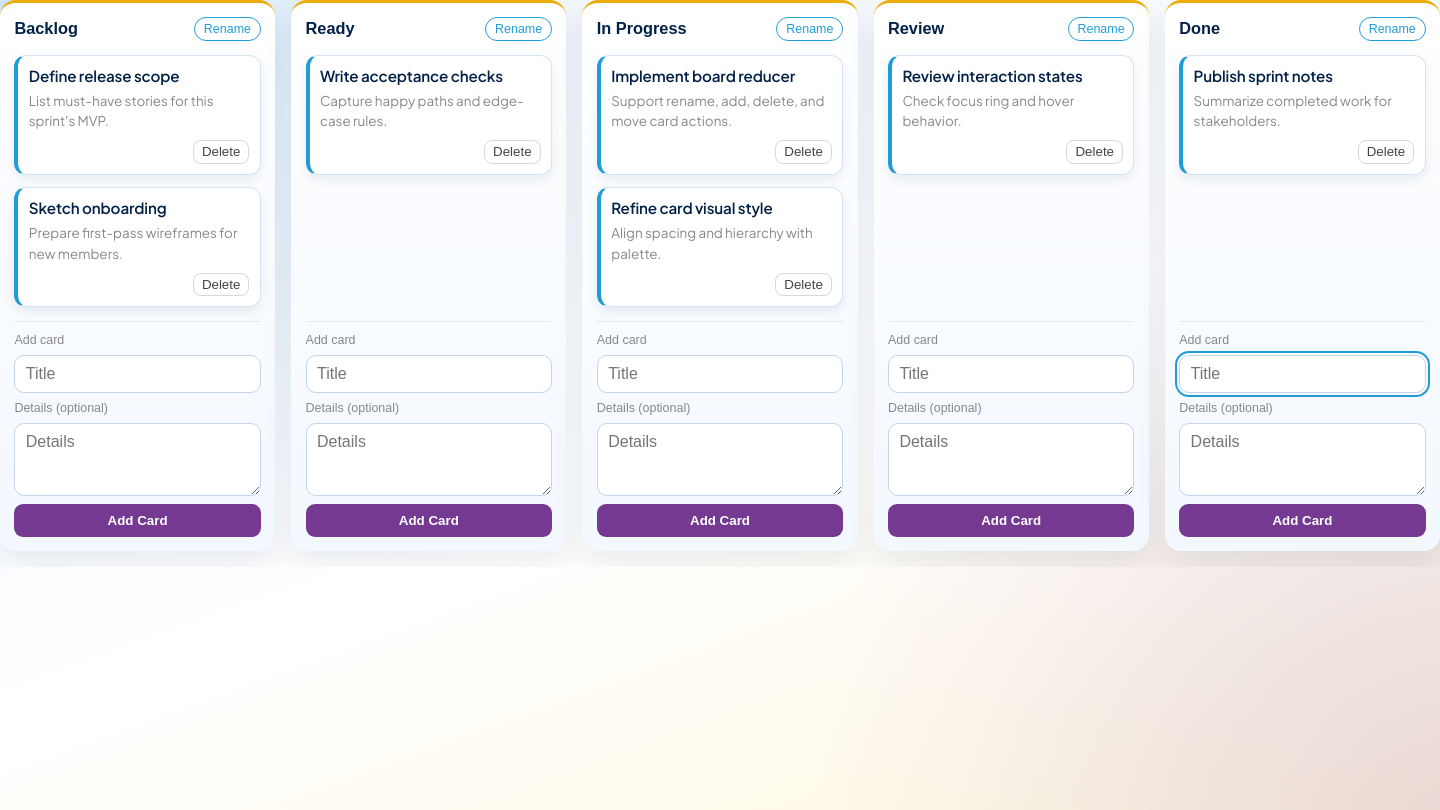
Test: Board › validates and adds cards
Step 1. Click the 1st button "Add Card" → (138, 521), box [14,504,261,537]
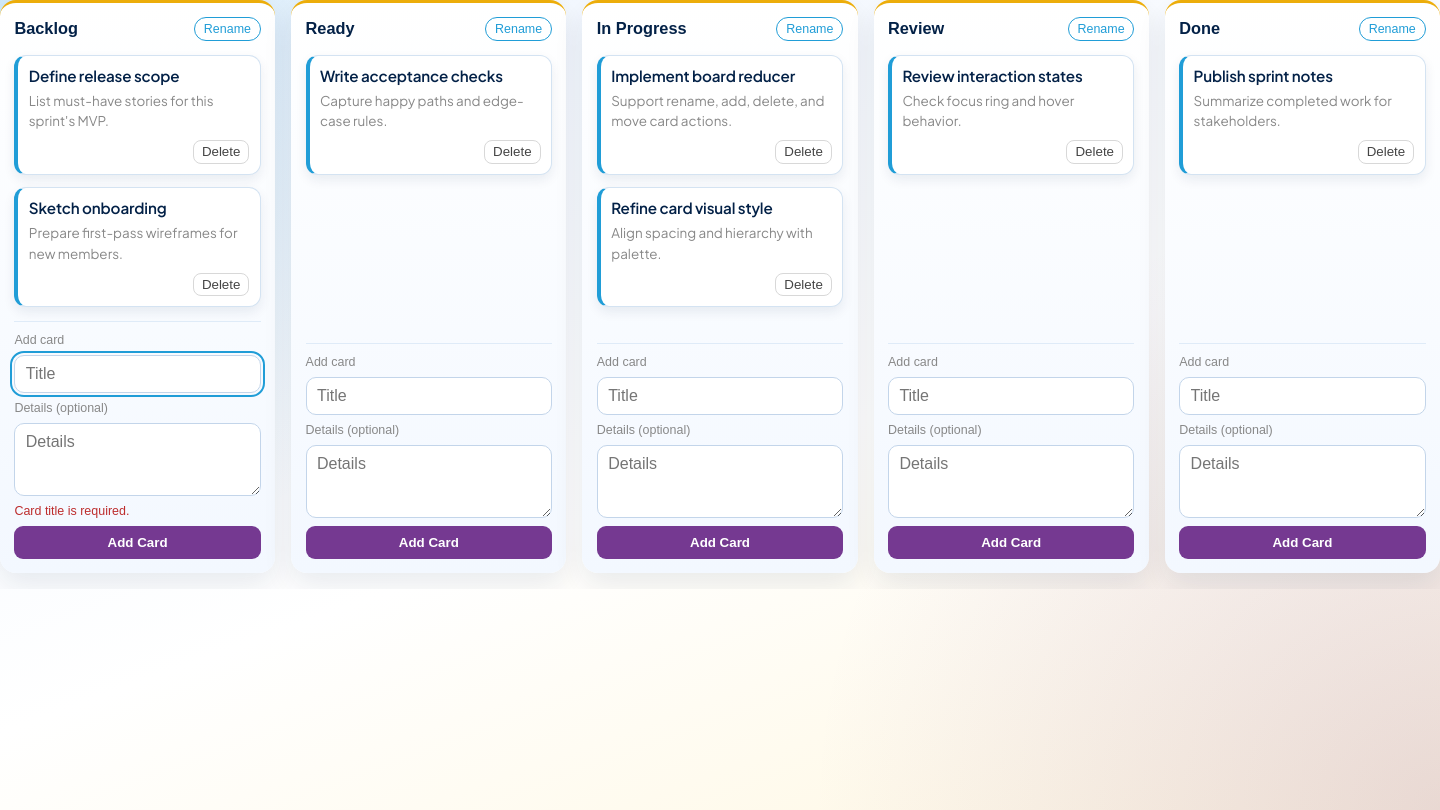
Check: the text "Card title is required." is shown, box [14,504,129,518]
Step 2. Type "Ship MVP board" into the field labelled "Add card" below "Backlog" → (138, 374), box [14,355,261,393]
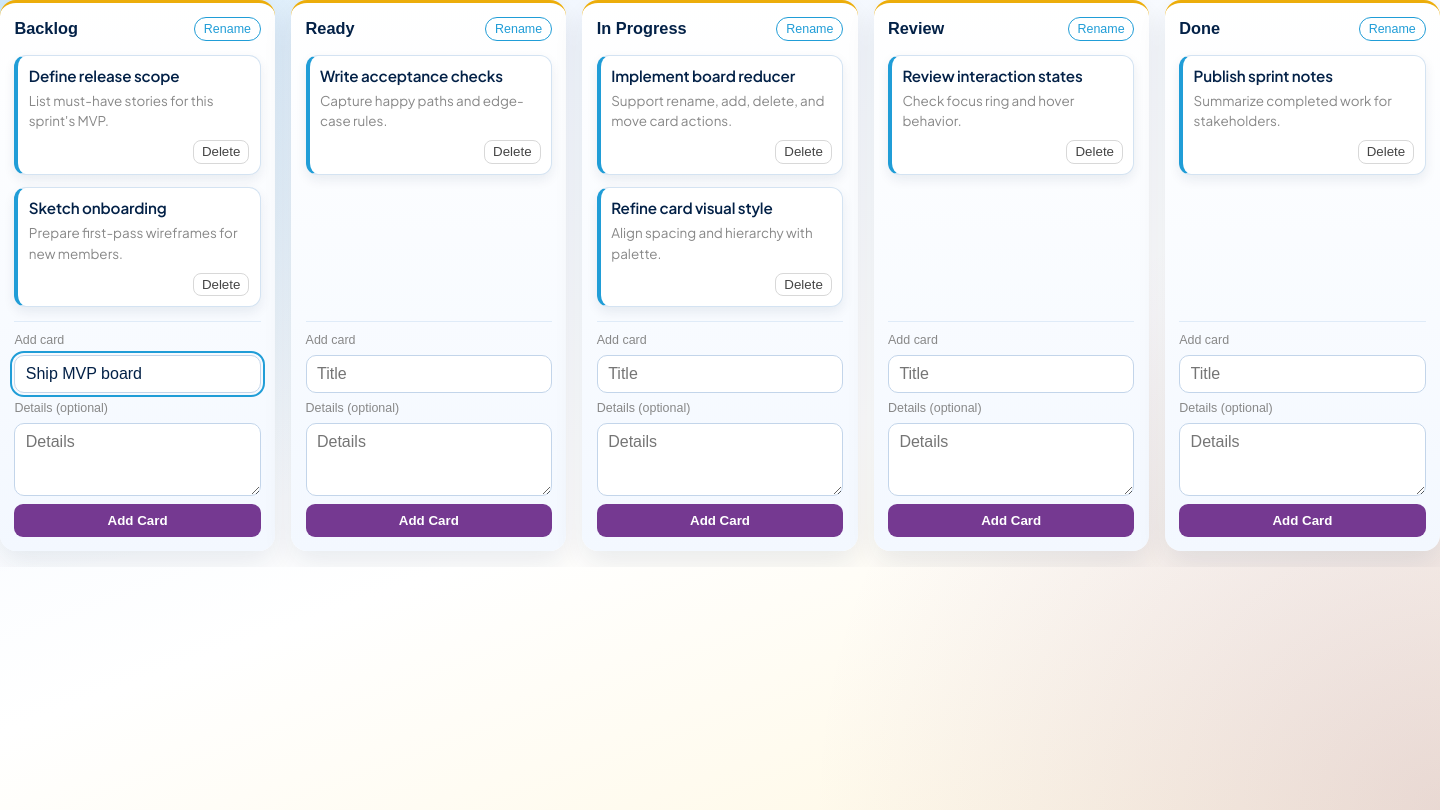
Step 3. Click the 1st button "Add Card" → (138, 521), box [14,504,261,537]
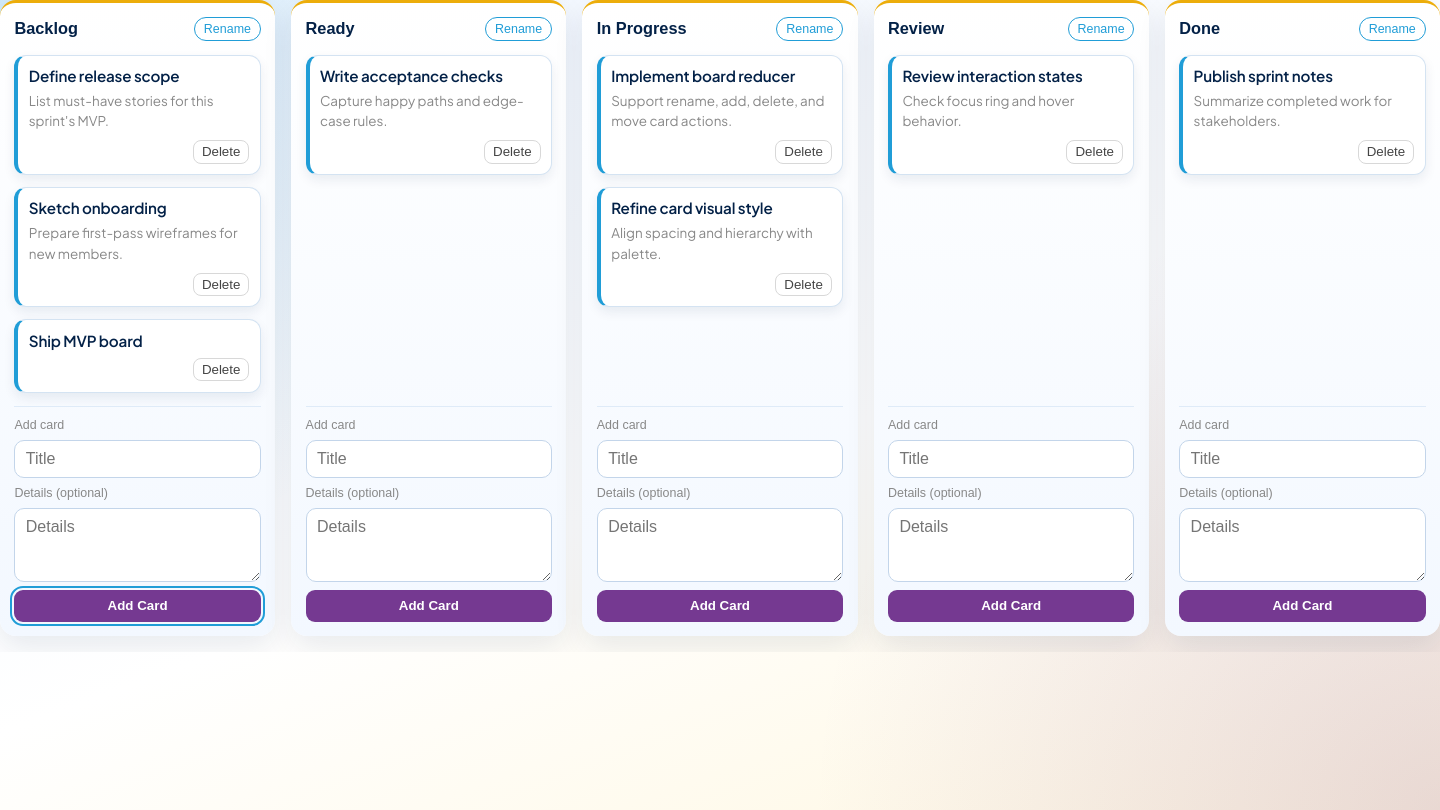
Check: the text "Card title is required." is not shown
Check: the heading "Ship MVP board" is shown, box [29,331,143,350]
